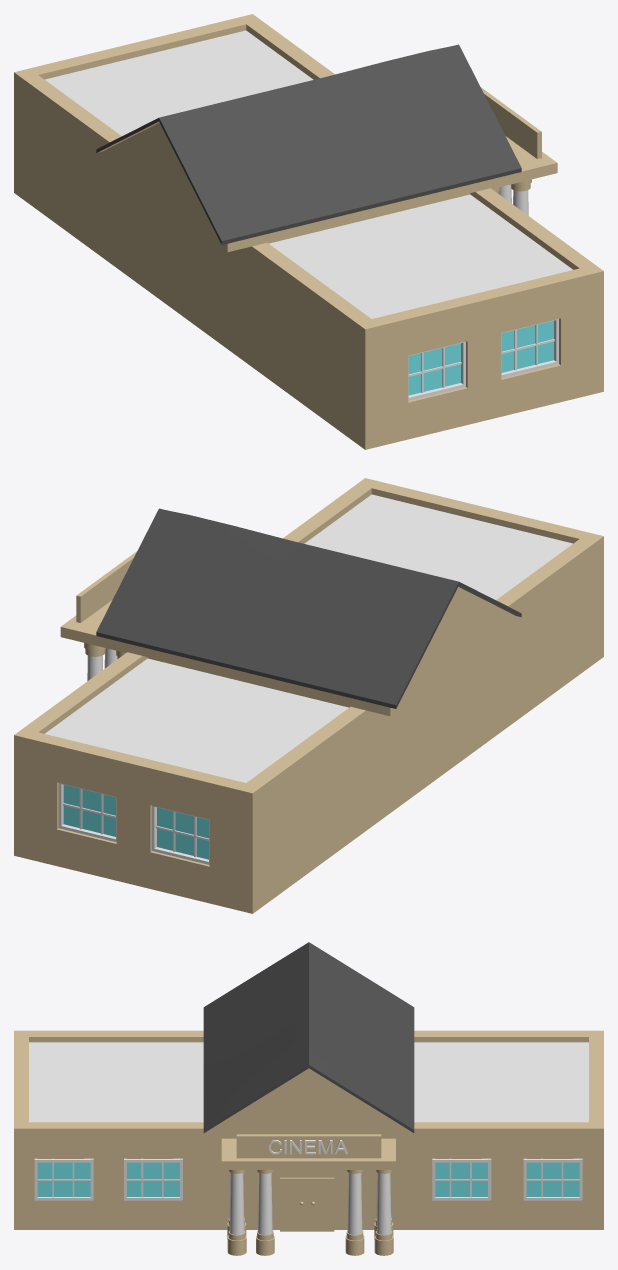
The model's file is Cinema.gltf.
3 renders of one model, top to bottom at view 1: azimuth 30°, elevation 25°; view 2: azimuth 150°, elevation 25°; view 3: azimuth 270°, elevation 25°, orthographic. The views are drawn at different scales.
Parts seen in each view (by area): view 1: node-0; view 2: node-0; view 3: node-0.
Part boxes in pixels (x1,y1,x2,y2): node-0: [14, 14, 603, 449]; node-0: [14, 478, 603, 913]; node-0: [14, 942, 603, 1255].
Size of the model in its own units: 47284 by 27914 by 83009.
